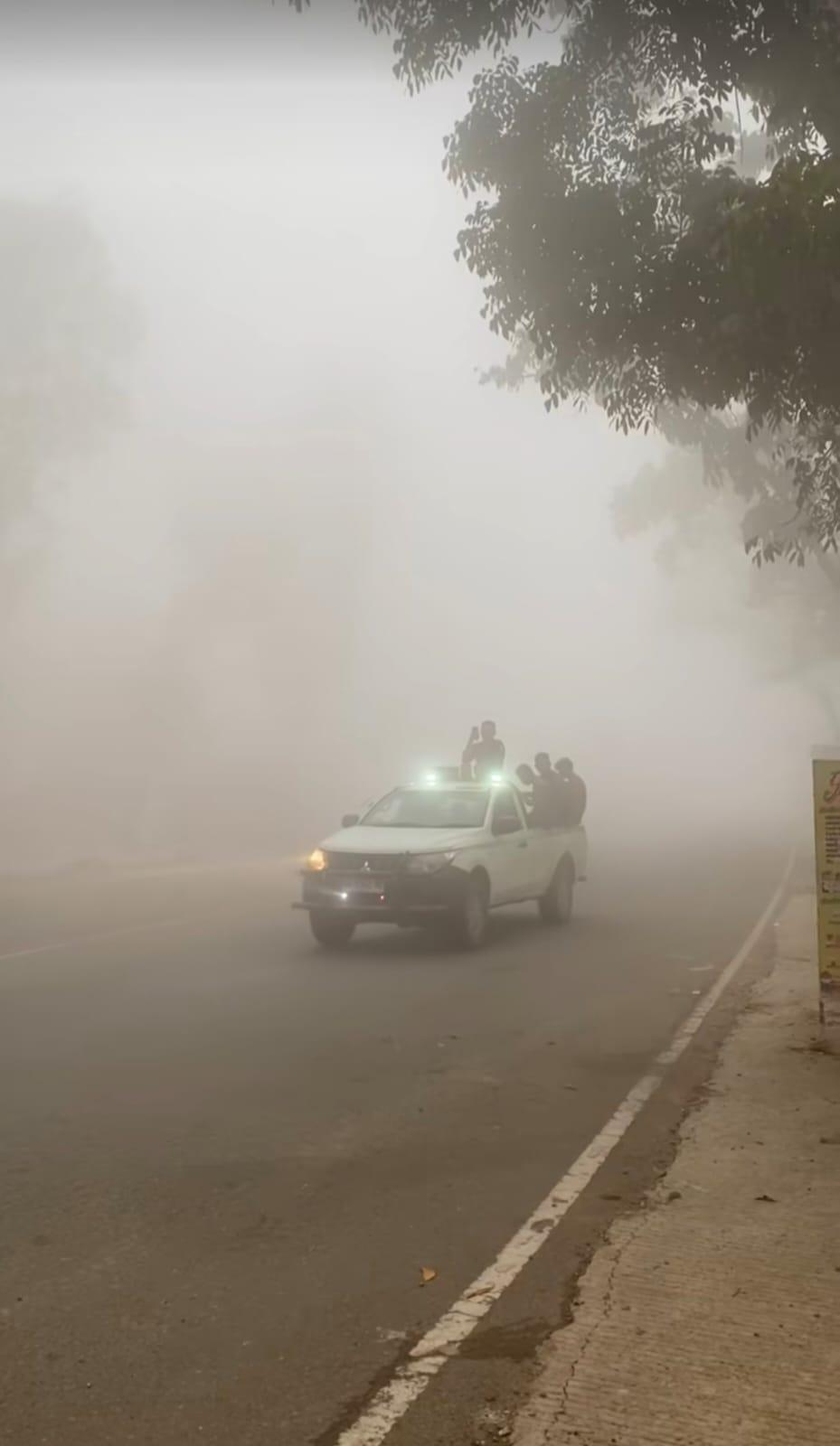Deteksi-Objek-Citra-Berasap: (0, 46, 840, 926)
Kendaraan: (294, 770, 590, 953)
Manusia: (460, 720, 505, 786), (552, 756, 587, 830), (531, 752, 564, 830), (514, 763, 543, 825)
Vegetasi: (271, 0, 840, 569)
